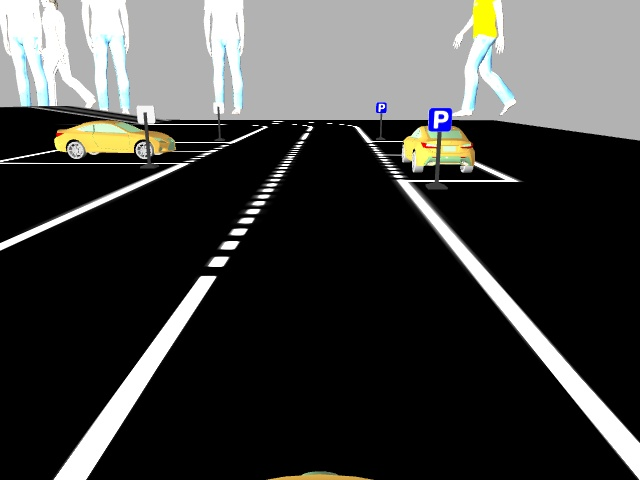Parking: (427, 107, 452, 132), (372, 100, 386, 113)
